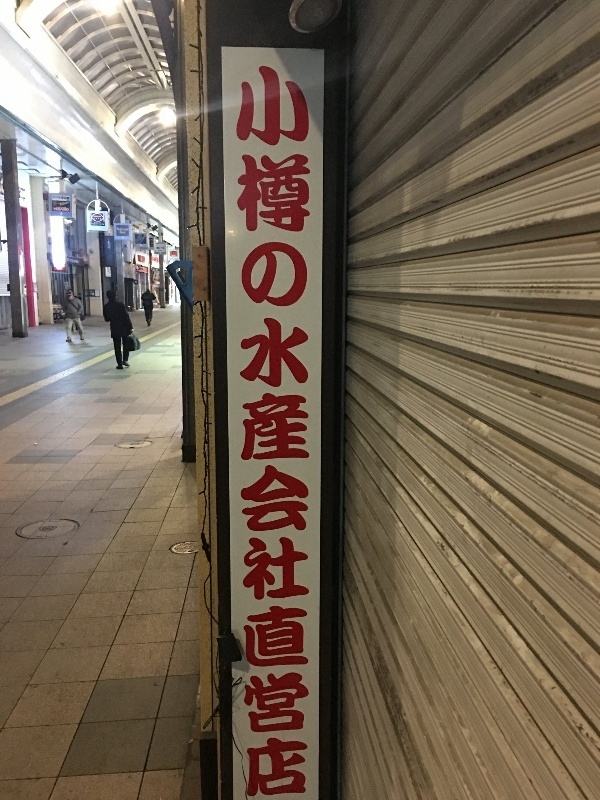text: (241, 65, 256, 798), (257, 65, 272, 798), (273, 65, 288, 798), (289, 65, 304, 798), (305, 65, 311, 798), (238, 65, 240, 798), (54, 208, 64, 212), (65, 208, 69, 212)
